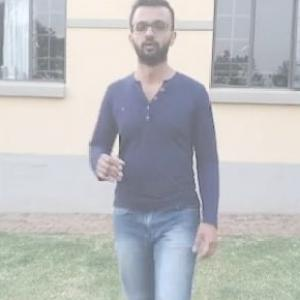follow: (103, 3, 228, 299)
